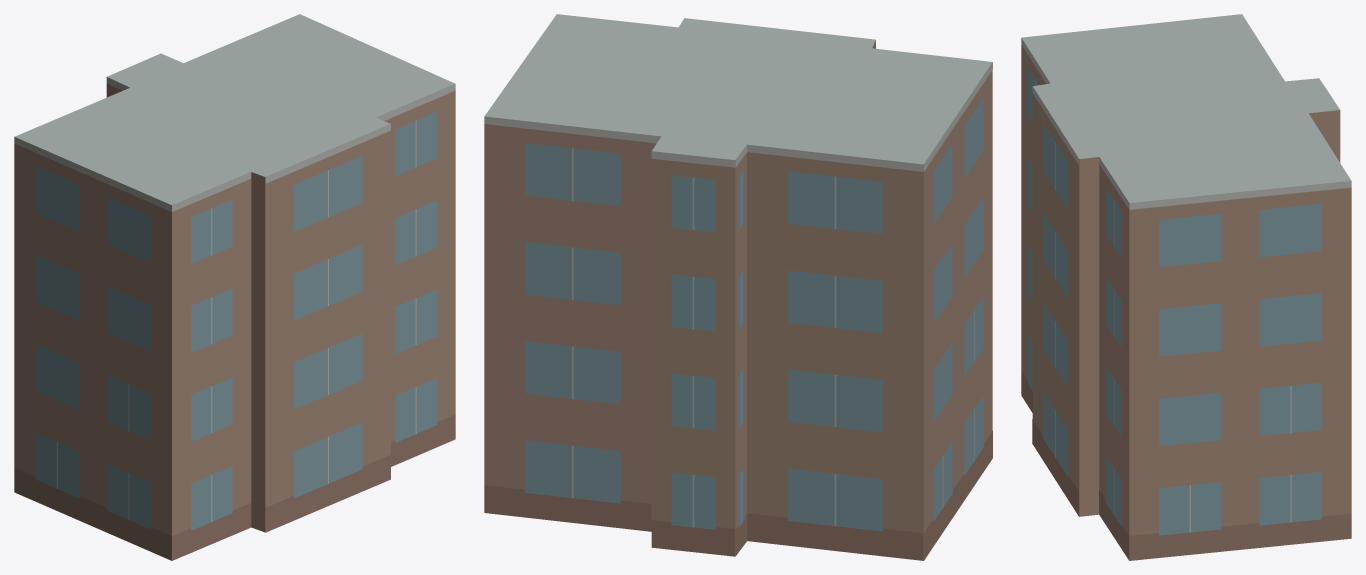
The model's file is survey-upis-33035443.glb.
3 views of the same model, side by side, from view 1: azimuth 30°, elevation 25°; view 2: azimuth 150°, elevation 25°; view 3: azimuth 270°, elevation 25° (orthographic). The views are drawn at different scales.
Parts seen in each view (by area): view 1: survey-upis-33035443.tmp; view 2: survey-upis-33035443.tmp; view 3: survey-upis-33035443.tmp.
Boxes of the visible parts, box(x1,y1,x2,y2) form: survey-upis-33035443.tmp: box(14, 14, 455, 560); survey-upis-33035443.tmp: box(484, 14, 992, 560); survey-upis-33035443.tmp: box(1021, 14, 1351, 560).
Bounding box in the file's own units: 14.64 × 12.9 × 10.8.
